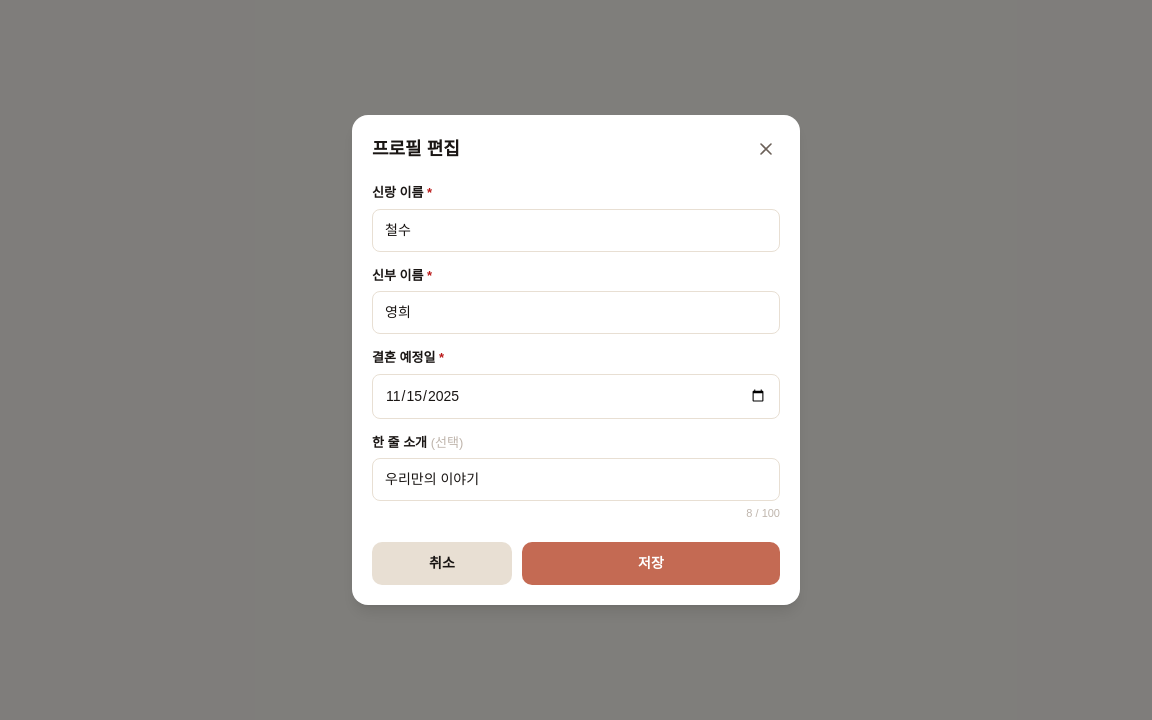
Test: CoupleProfileEditModal › 신부 이름 1자 입력 → 에러 메시지
This screenshot has width=1152, height=720.
Replace the text in the field labelled "신부 이름 *" with "희": [576, 313] box [372, 291, 780, 334]
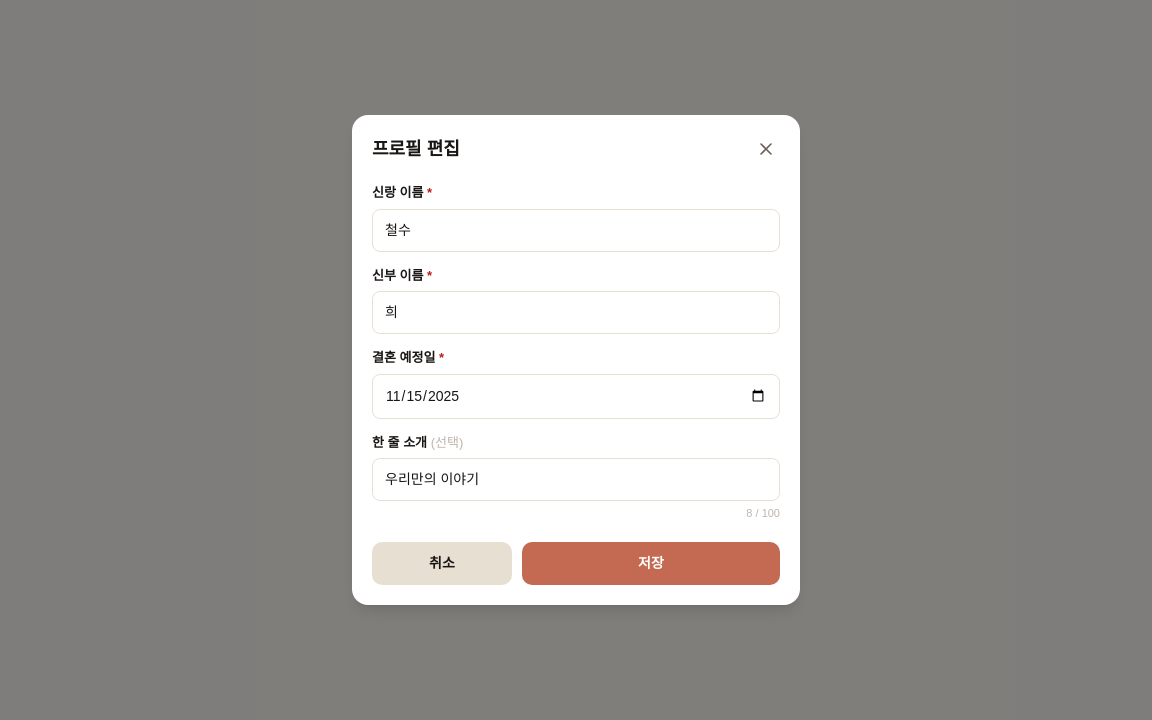
Click the button "저장": [651, 563] box [522, 542, 780, 585]
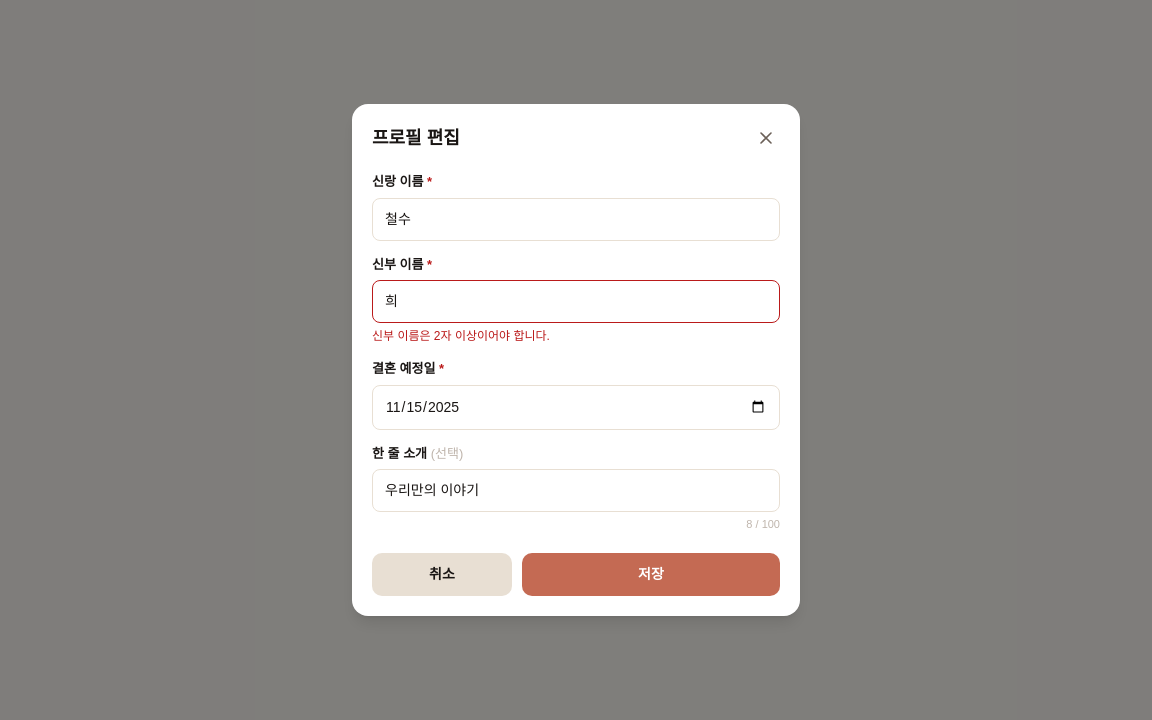
Now the text "신부 이름은 2자 이상이어야 합니다." is shown, box [372, 329, 550, 343]
